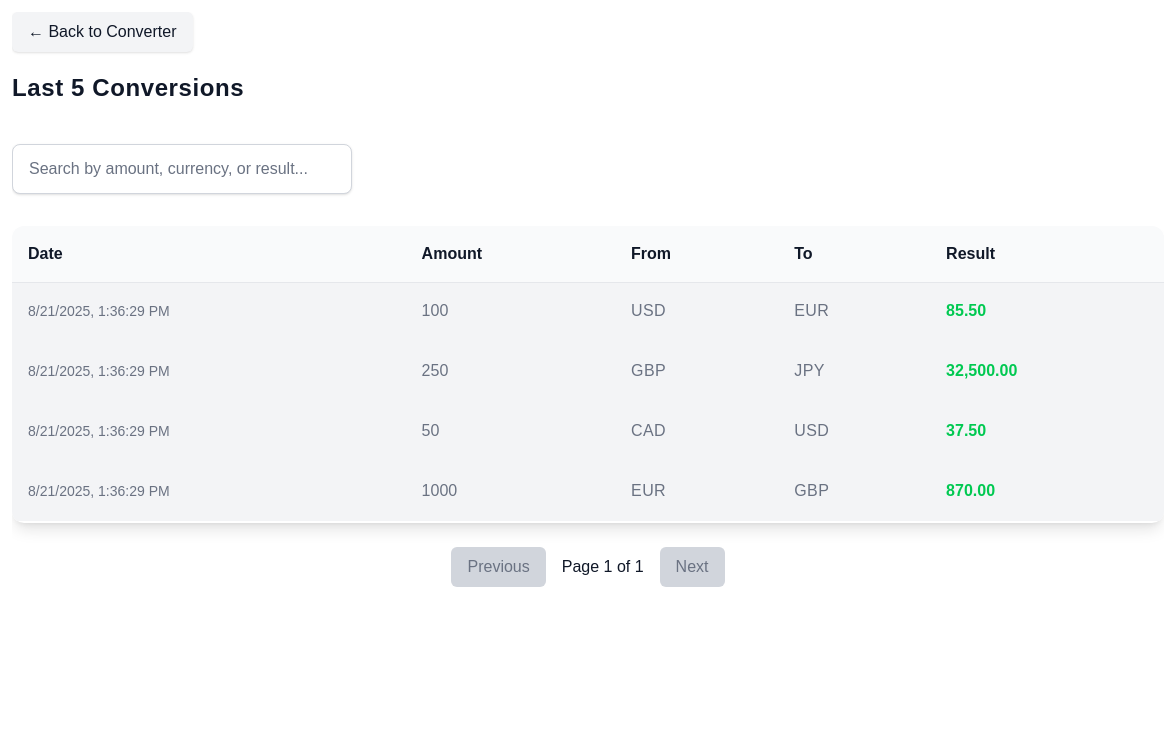
Test: TransactionHistory › shows "No conversions found" when search has no results
Note: Search for something that doesn't exist
Type "NONEXISTENT" into the field with placeholder "Search by amount, currency, or result..." at {"x": 182, "y": 169}, box [12,144,352,194]
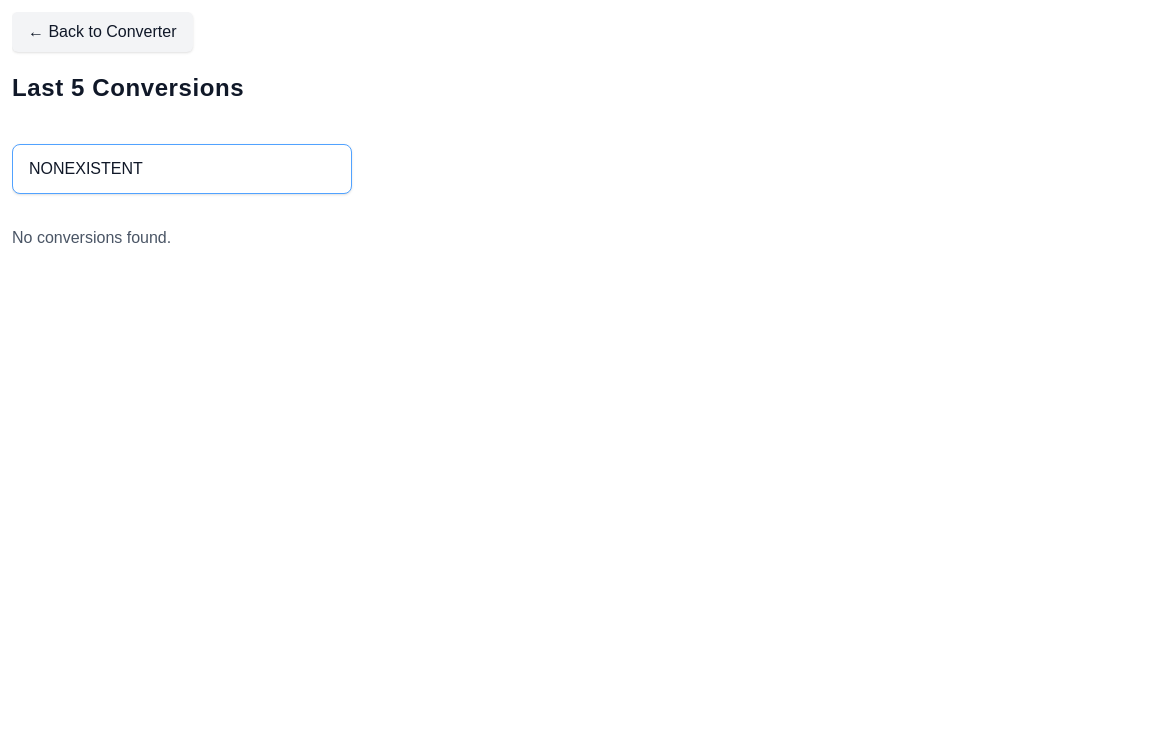
Result: the text "No conversions found." is shown at [12,229,171,246]
